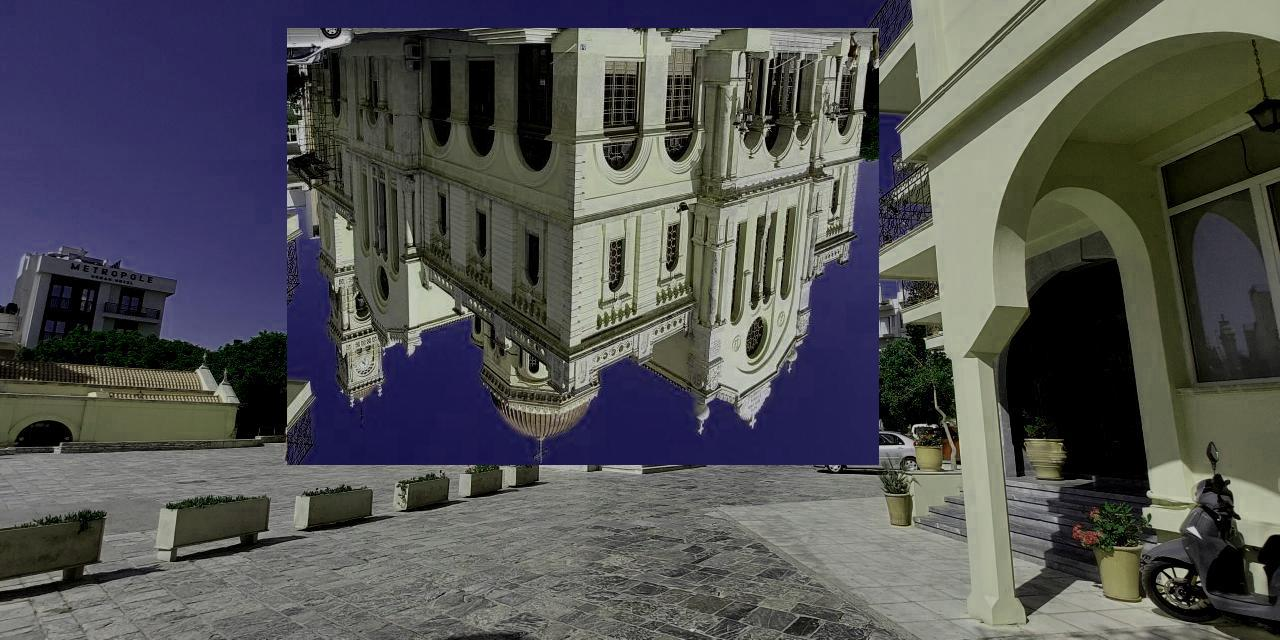Agios Minas: (288, 29, 880, 466)
